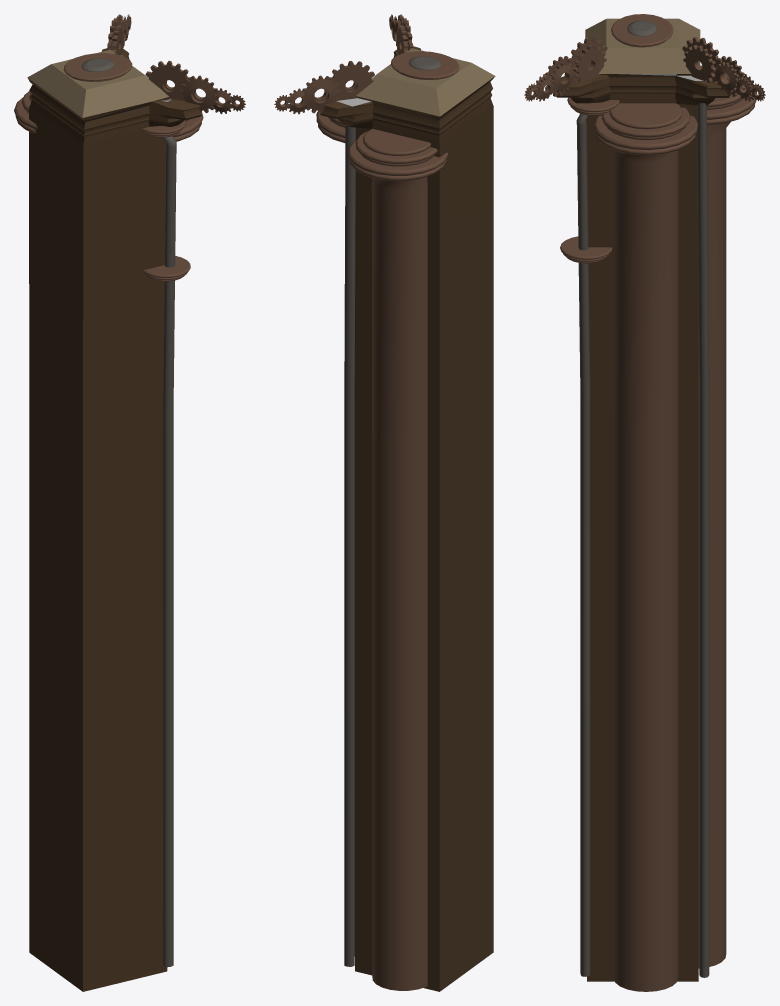
File: GearBuilding.fbx
3 views of the same model, side by side, from view 1: azimuth 30°, elevation 25°; view 2: azimuth 150°, elevation 25°; view 3: azimuth 270°, elevation 25° (orthographic). The views are drawn at different scales.
Parts seen in each view (by area): view 1: polySurface69; view 2: polySurface69; view 3: polySurface69.
Part boxes in pixels (x1,y1,x2,y2): polySurface69: (14, 14, 245, 991); polySurface69: (274, 14, 495, 991); polySurface69: (524, 14, 765, 991).
Size of the model in its own units: 28.58 by 169 by 39.05.
